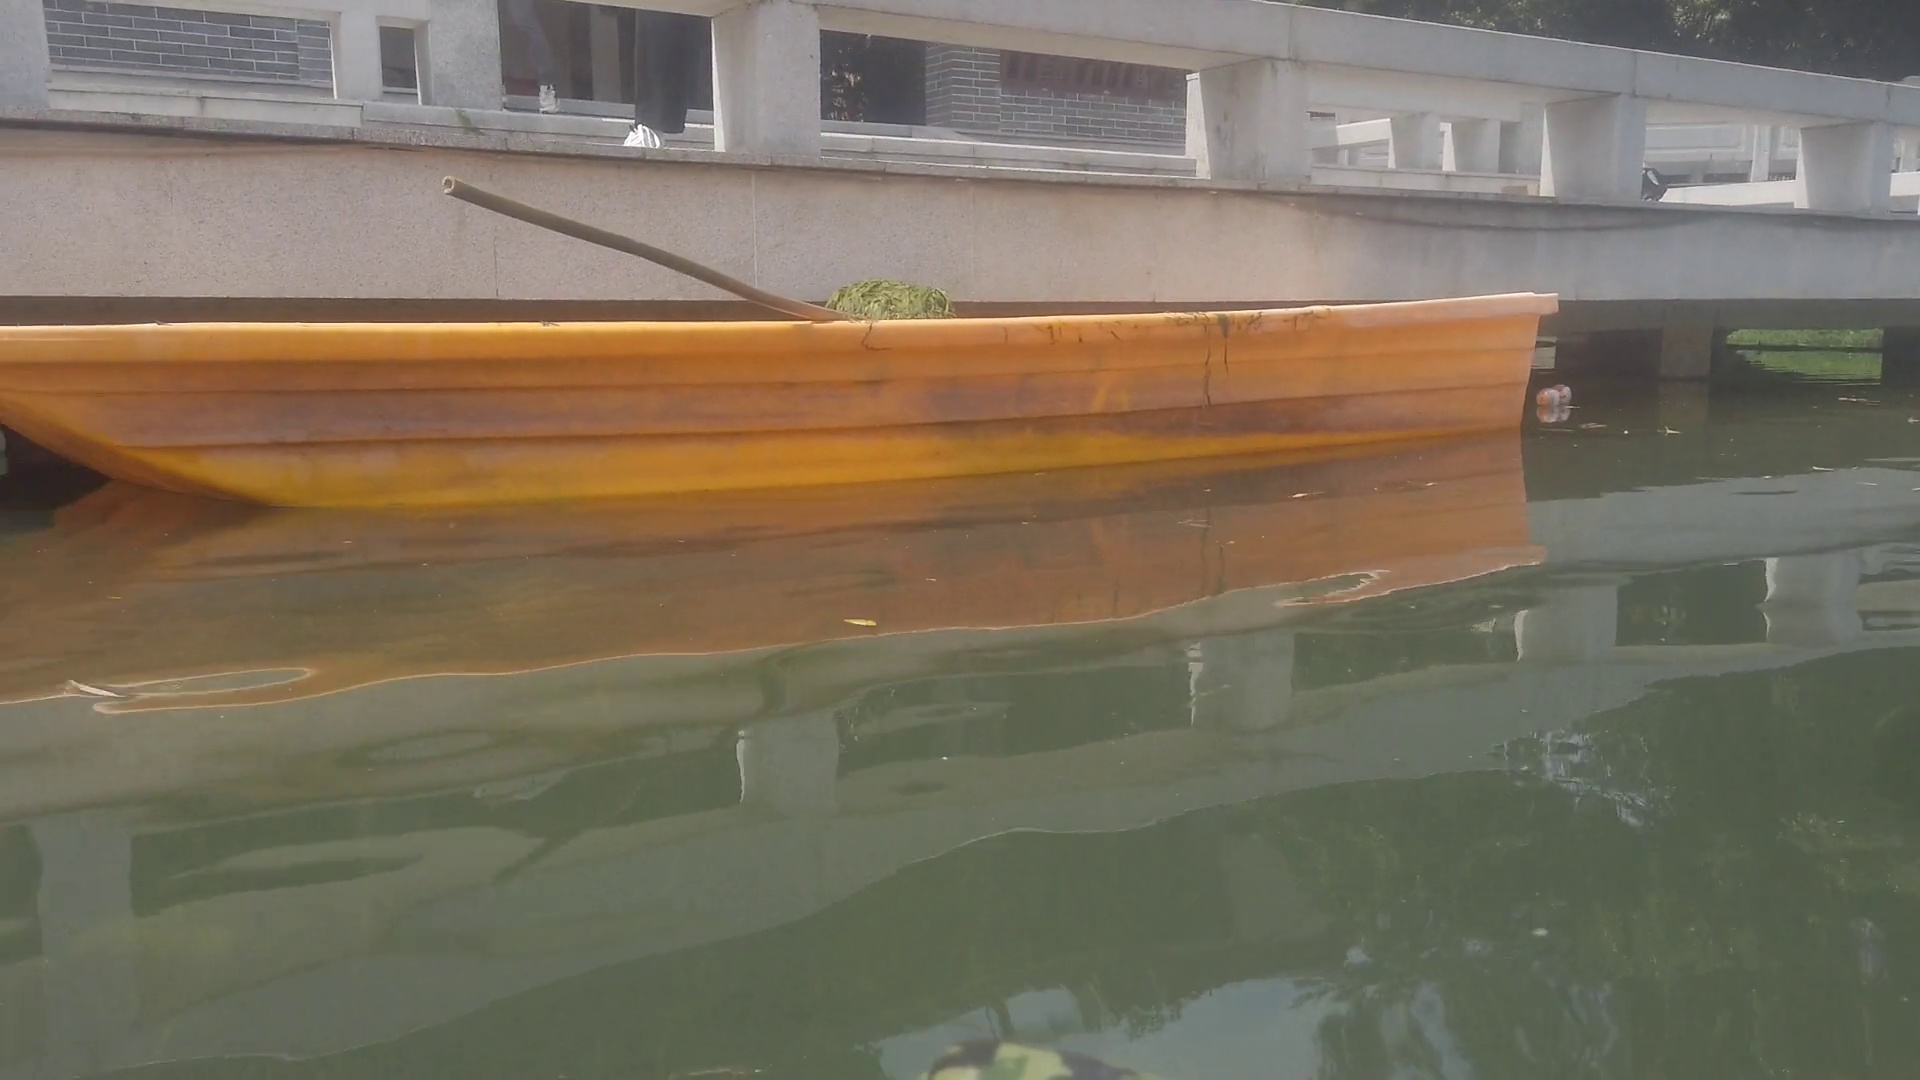bottle: (1532, 380, 1571, 407)
